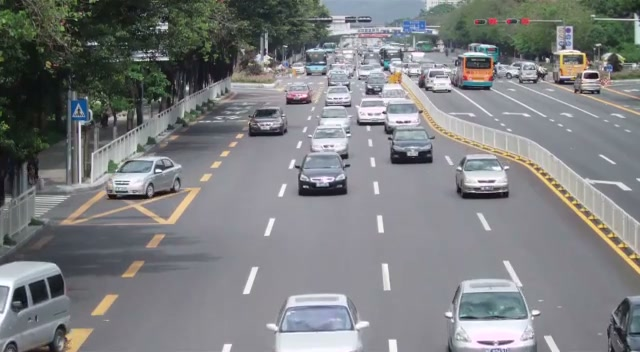bus: (452, 52, 495, 89)
car: (444, 278, 541, 352), (0, 260, 71, 352), (266, 293, 370, 352), (105, 155, 183, 199), (453, 154, 510, 199), (296, 151, 348, 196), (606, 295, 640, 352), (388, 126, 434, 164), (309, 125, 350, 159), (383, 100, 421, 136), (248, 107, 288, 137), (317, 105, 353, 136), (356, 98, 387, 125), (573, 70, 602, 95), (325, 85, 352, 107), (285, 82, 311, 104)
truck: (553, 50, 587, 84)
